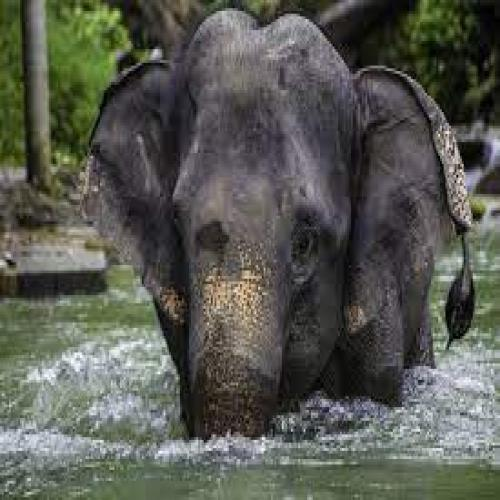asian_elephant-endangered: (80, 9, 472, 432)
